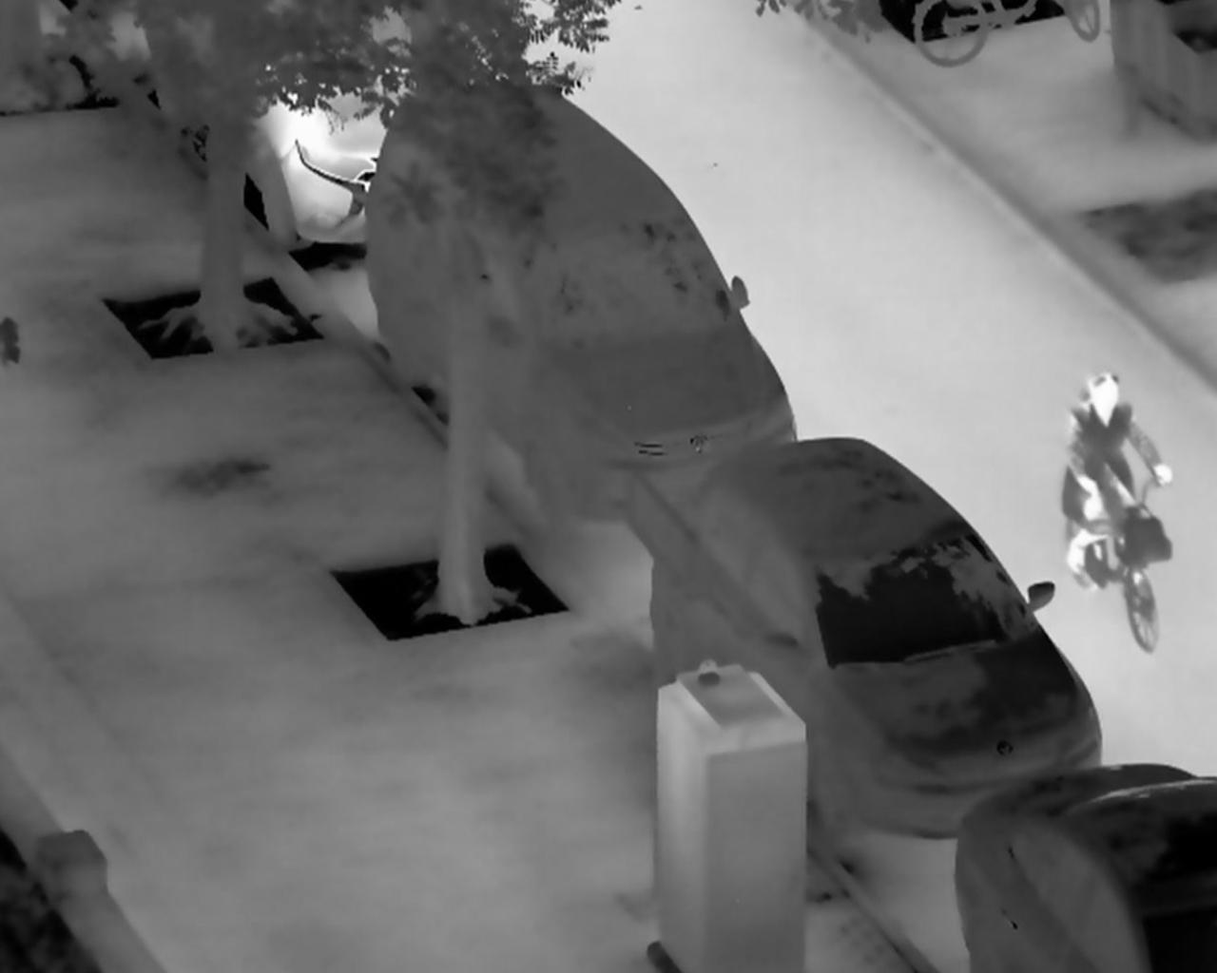person: (1056, 369, 1174, 590)
